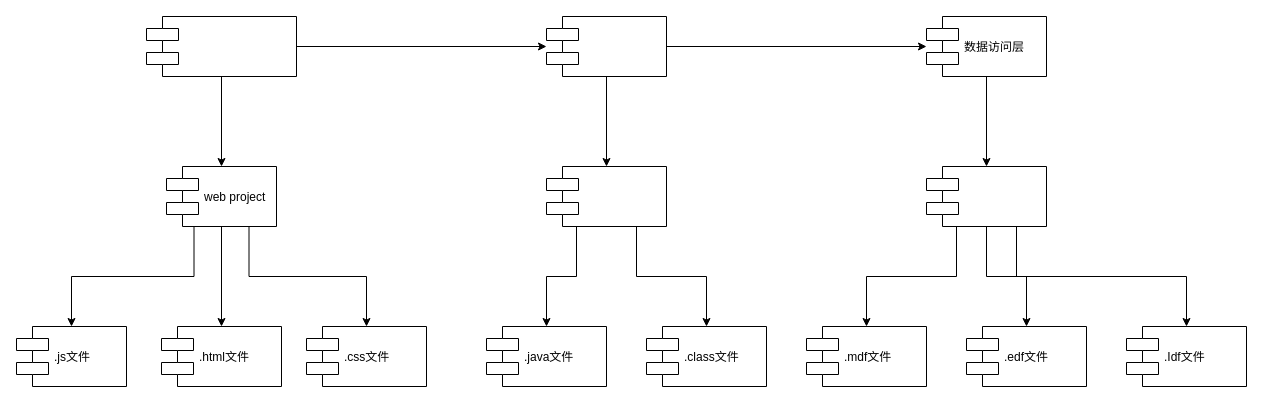
Image size: 1263x403. Some labels were removed from this diagram. Each missing label, with the box of its shape:
java project: (546, 166, 666, 226)
Sql project: (926, 166, 1046, 226)
用户&管理员界面层: (146, 16, 296, 76)
逻辑层: (546, 16, 666, 76)
